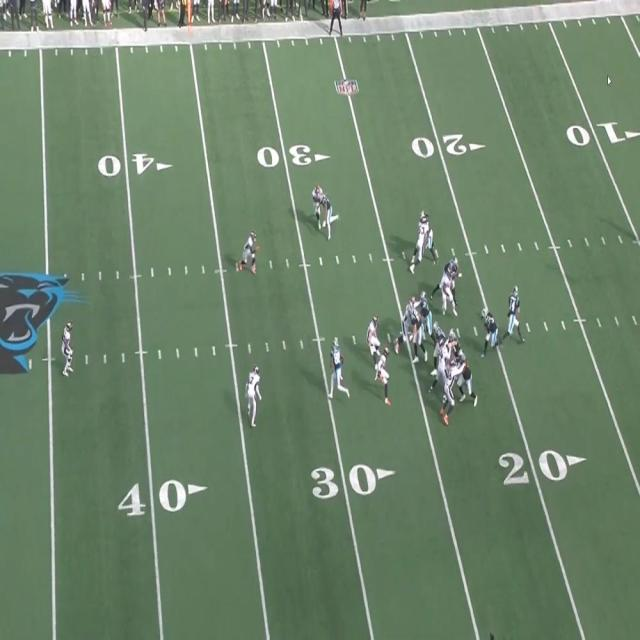db: (248, 366, 263, 427), (312, 184, 326, 234), (243, 231, 259, 273), (62, 322, 74, 377)
lb: (380, 346, 390, 404), (371, 314, 381, 360)
qb: (505, 285, 522, 340)
skill: (415, 210, 432, 266), (330, 341, 343, 396), (322, 188, 336, 238), (482, 304, 494, 358)
